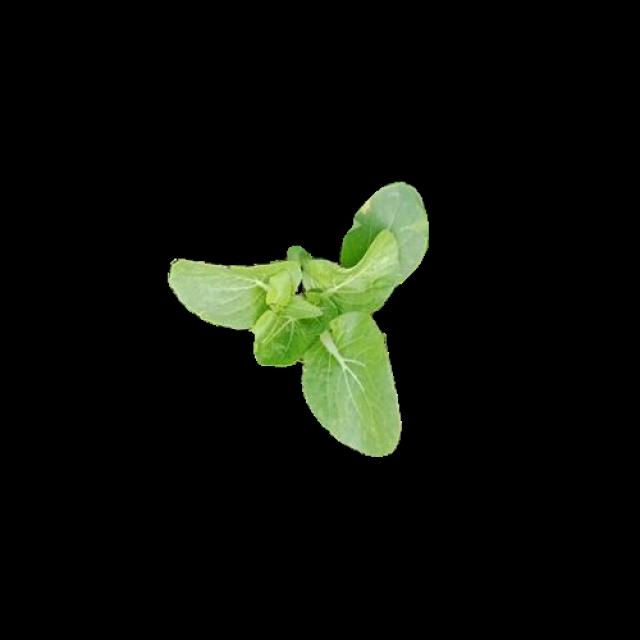not-mature: (168, 180, 428, 456)
unhealthy: (347, 178, 429, 278)
